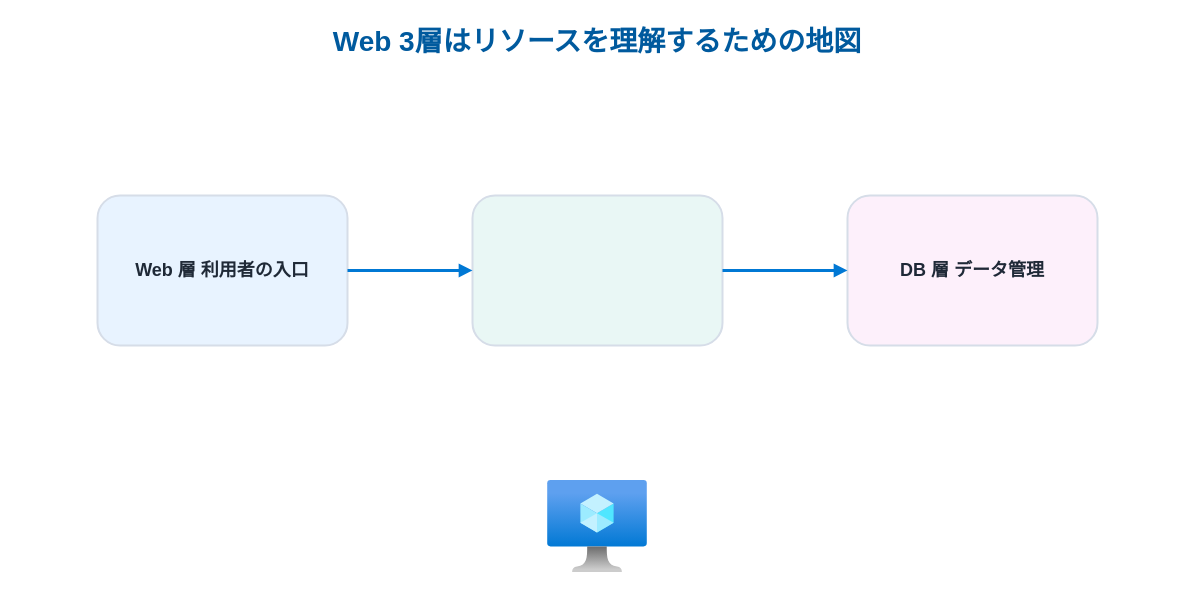
Image size: 1194x615. Some labels were removed from this diagram. The box of each missing label's shape, as (x1, y1, x2, y2) in pixels:
AP 層 業務処理: (471, 194, 723, 346)
次回: Web 層を Azure VM で作る: (382, 480, 812, 572)
